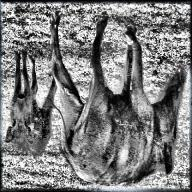boar: (47, 1, 192, 192)
